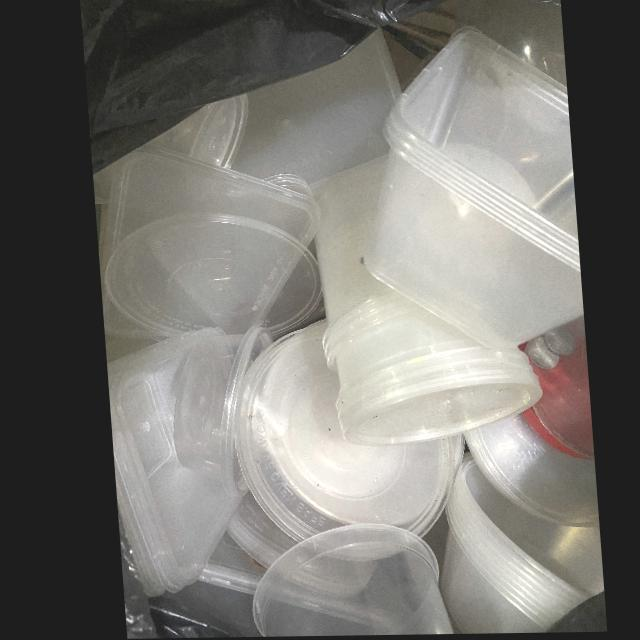plastic: (359, 26, 579, 350), (310, 156, 536, 446), (101, 328, 233, 597), (430, 451, 595, 635), (242, 524, 445, 637), (167, 325, 267, 498)
